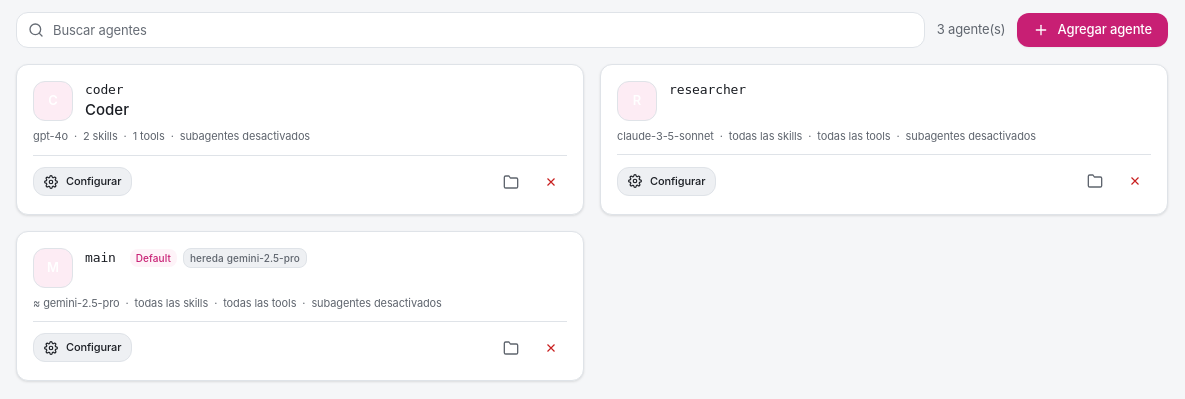
it: AgentsListPage — search › no-matches message keeps the query visible
Type "zzz" into the search field with test id "agents-search" at (470, 30), box [16, 12, 925, 48]
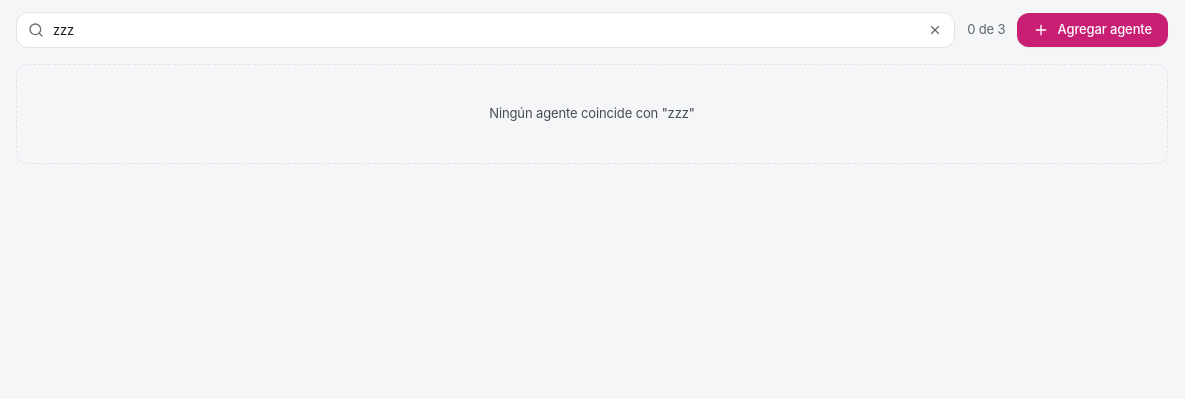
expect the text with test id "agents-no-matches" shows "zzz": met, box [489, 105, 695, 121]
expect the element with test id "agent-card" is gone: met
